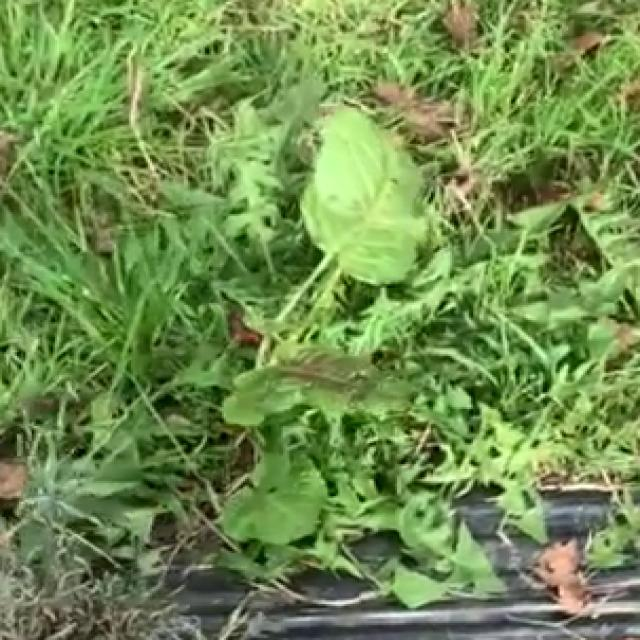organic waste: (180, 95, 540, 587)
